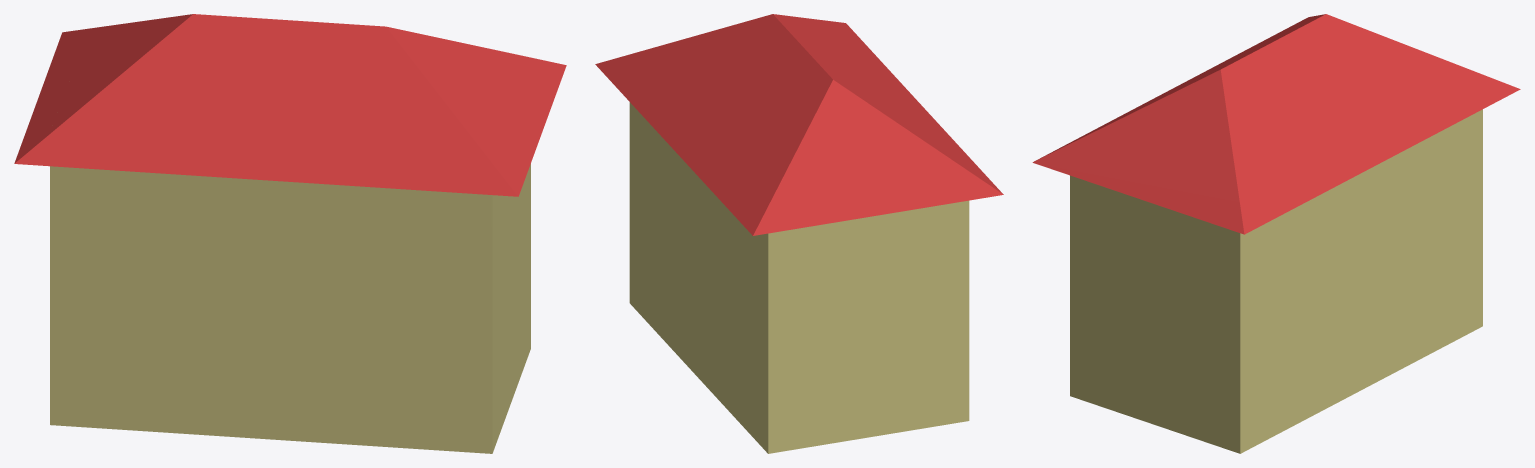
The picture shows the model from 3 angles, left to right: view 1: azimuth 30°, elevation 25°; view 2: azimuth 150°, elevation 25°; view 3: azimuth 270°, elevation 25°; orthographic projection. The views are drawn at different scales.
Bounding box in the file's own units: 14.28 × 13.56 × 9.75.
